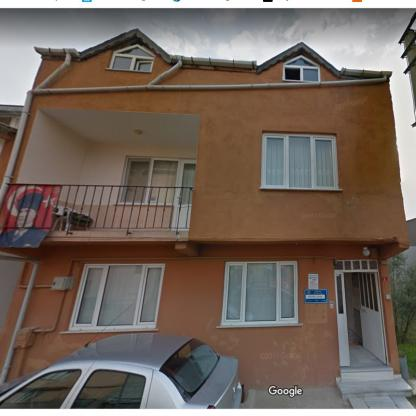door: (359, 272, 387, 364), (171, 159, 196, 229), (335, 271, 350, 366)
window: (69, 264, 163, 328), (222, 262, 298, 324), (262, 134, 338, 188), (118, 157, 179, 205), (109, 44, 155, 72), (282, 55, 320, 81), (334, 260, 378, 270)
